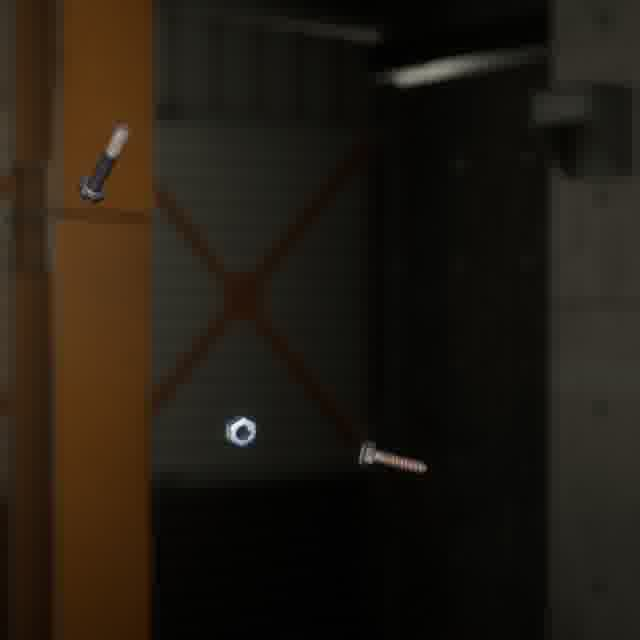bolt: (73, 118, 135, 208), (354, 436, 432, 479)
nut: (222, 409, 260, 451)
